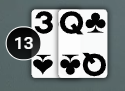3: (31, 9, 58, 36)
q: (58, 9, 87, 38)
